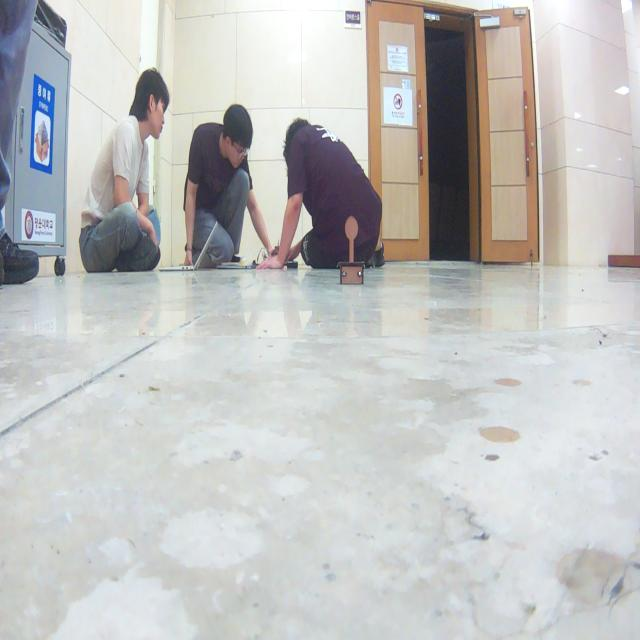target: (339, 215, 365, 285)
